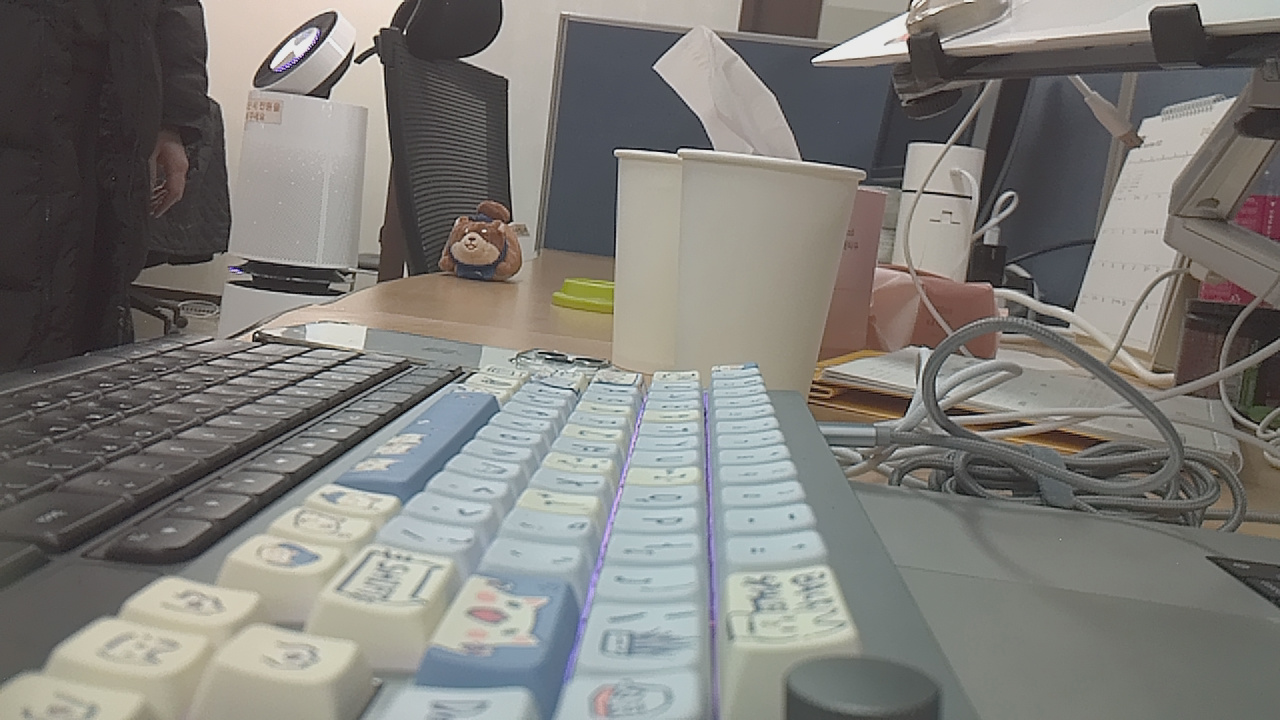cuteDog: (430, 197, 541, 296)
